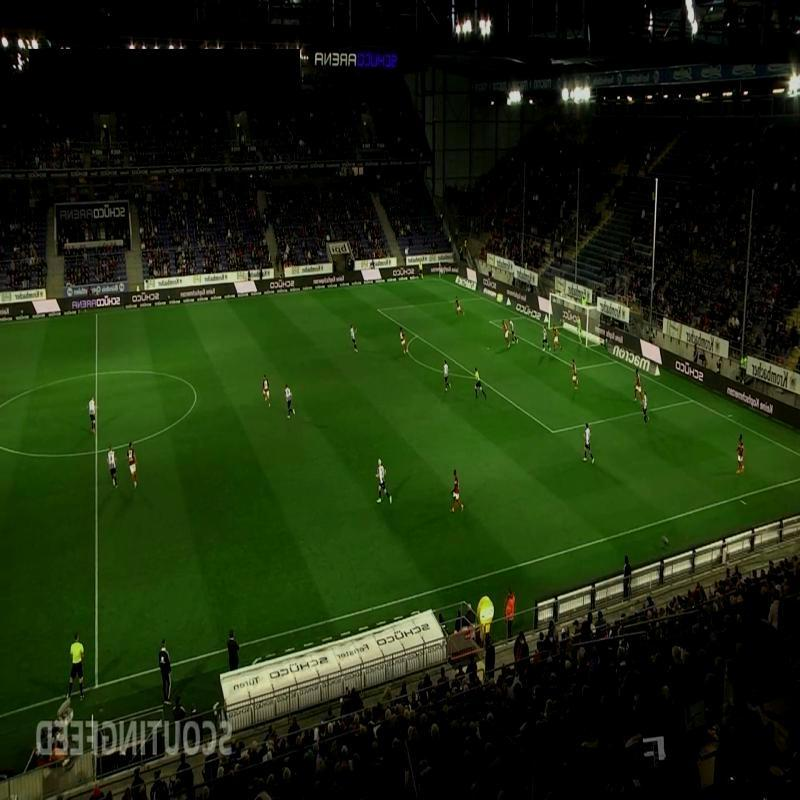1: (432, 271, 446, 285)
10: (410, 328, 424, 342)
11: (472, 370, 486, 384)
12: (546, 426, 560, 440)
13: (89, 306, 103, 320)
14: (87, 365, 103, 382)
15: (88, 442, 103, 461)
16: (81, 670, 112, 701)
2: (476, 292, 490, 306)
3: (519, 310, 533, 324)
4: (610, 355, 624, 368)
5: (684, 394, 698, 408)
7: (484, 316, 498, 330)
8: (570, 362, 584, 376)
9: (370, 303, 384, 317)
c: (188, 387, 202, 401)
